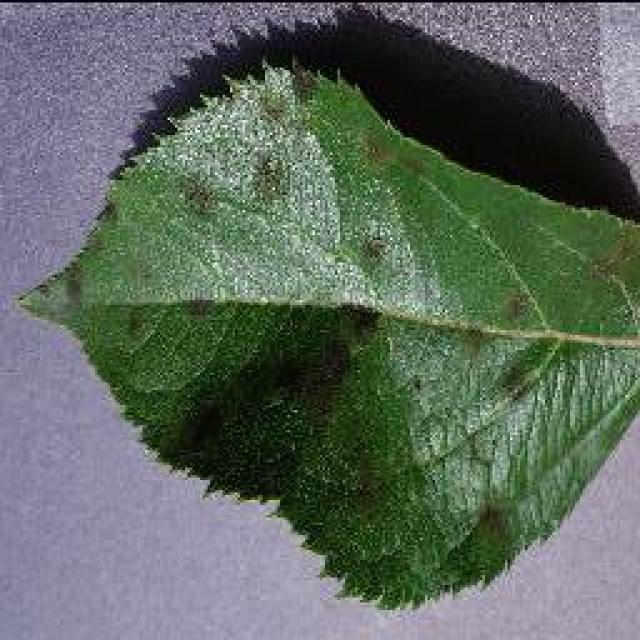apple scab disease: (15, 15, 637, 610)
